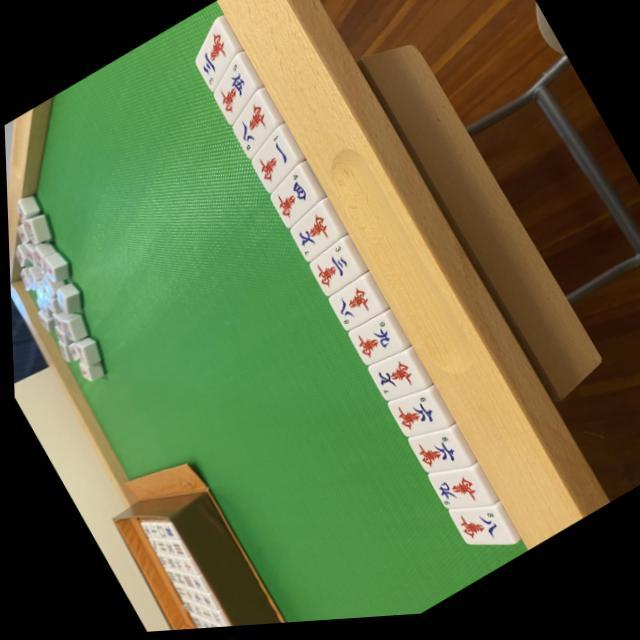sc1: (248, 134, 300, 188)
sc3: (305, 243, 360, 297), (187, 30, 238, 81)
sc4: (260, 170, 321, 230)
sc5: (203, 62, 261, 122)
sc6: (405, 428, 464, 484), (386, 393, 442, 446)
sc7: (283, 208, 339, 264), (366, 357, 420, 408)
sc8: (448, 503, 503, 557), (325, 282, 378, 334), (227, 102, 279, 154)
sc9: (426, 468, 484, 523), (345, 321, 397, 371)
